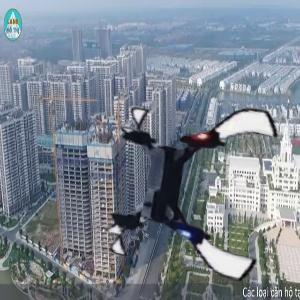drone: (106, 96, 284, 274)
